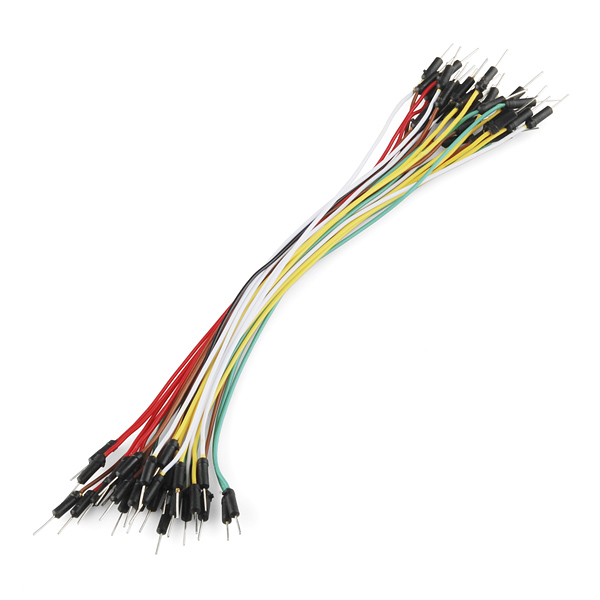Nonrec_Tangler: (35, 12, 561, 550)
